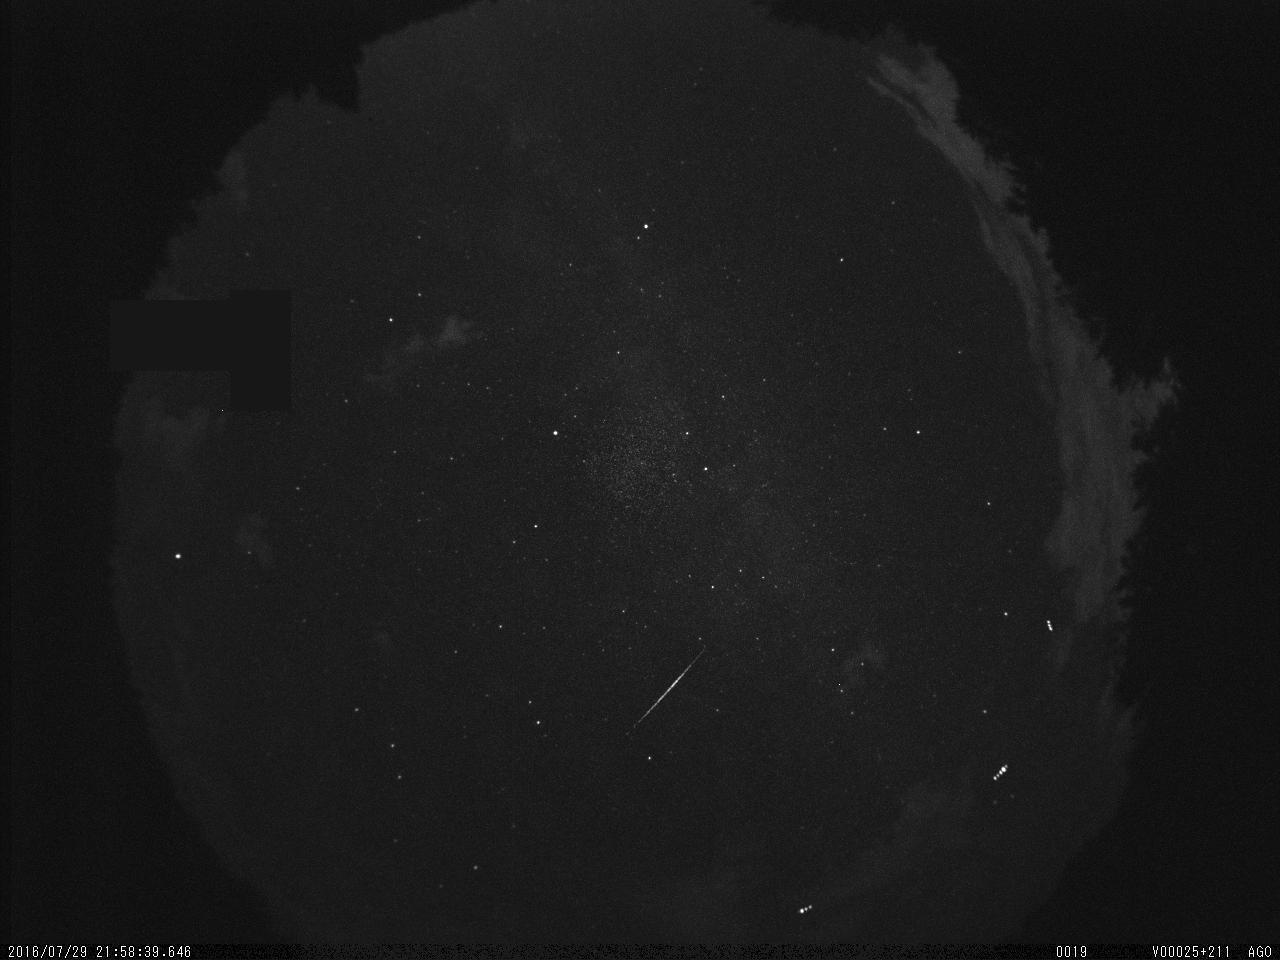meteor: (624, 637, 711, 741)
satelite: (987, 758, 1014, 785), (792, 899, 819, 918), (1041, 614, 1057, 639)
